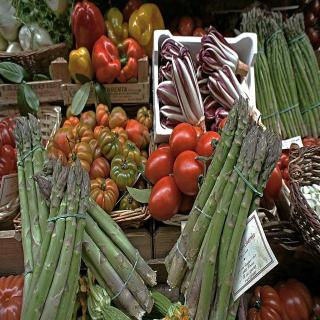Tomato: (150, 176, 180, 221), (176, 152, 207, 192), (144, 149, 172, 186), (171, 123, 200, 155), (197, 131, 220, 165), (267, 166, 282, 194), (178, 195, 190, 211), (282, 167, 288, 179), (283, 156, 290, 163)
